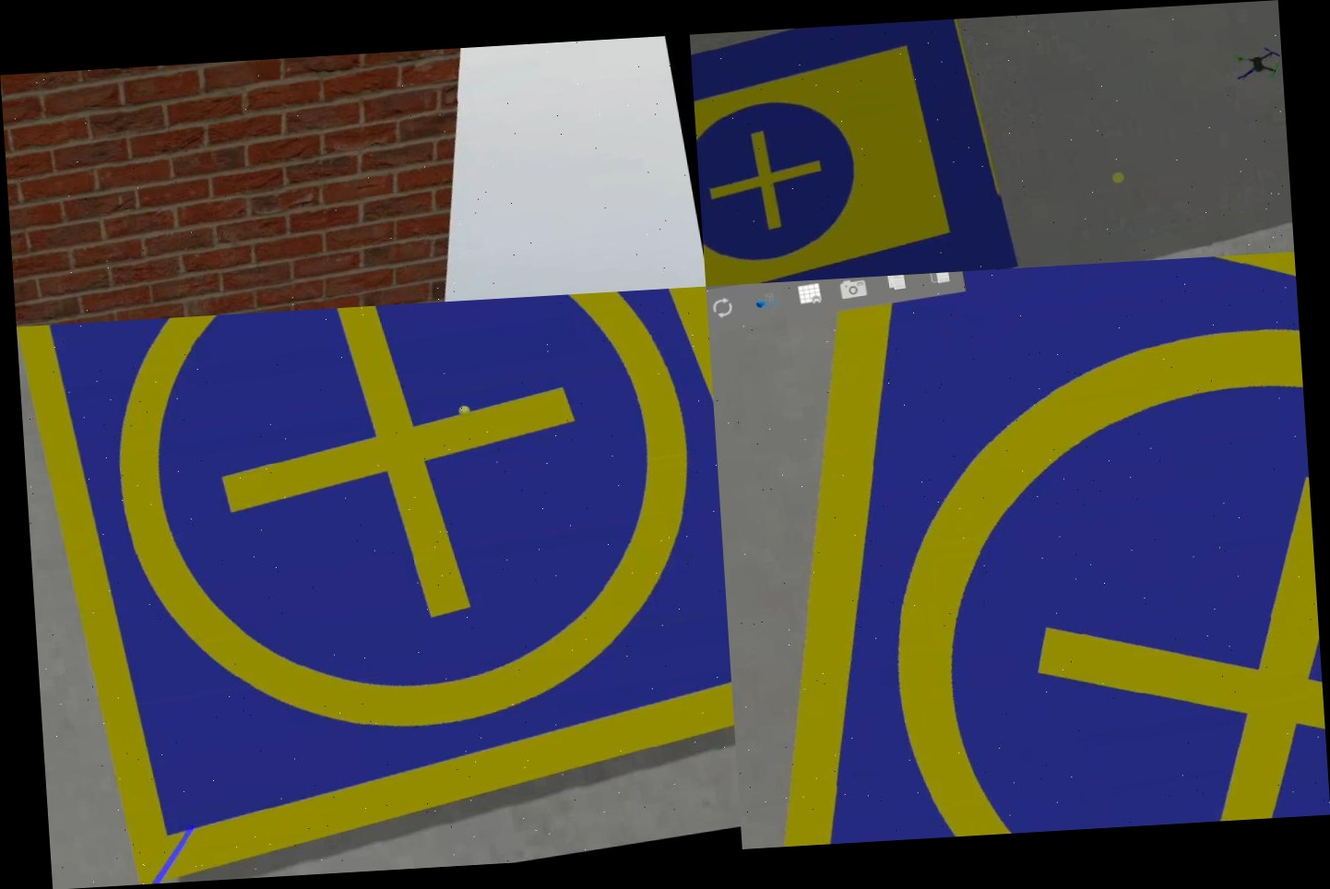large_base: (690, 16, 1025, 287)
small_base: (17, 287, 742, 889), (706, 252, 1330, 848)
